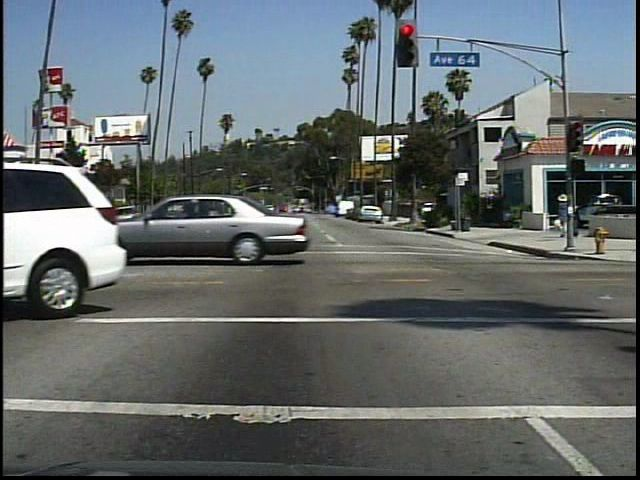person: (553, 189, 570, 240)
